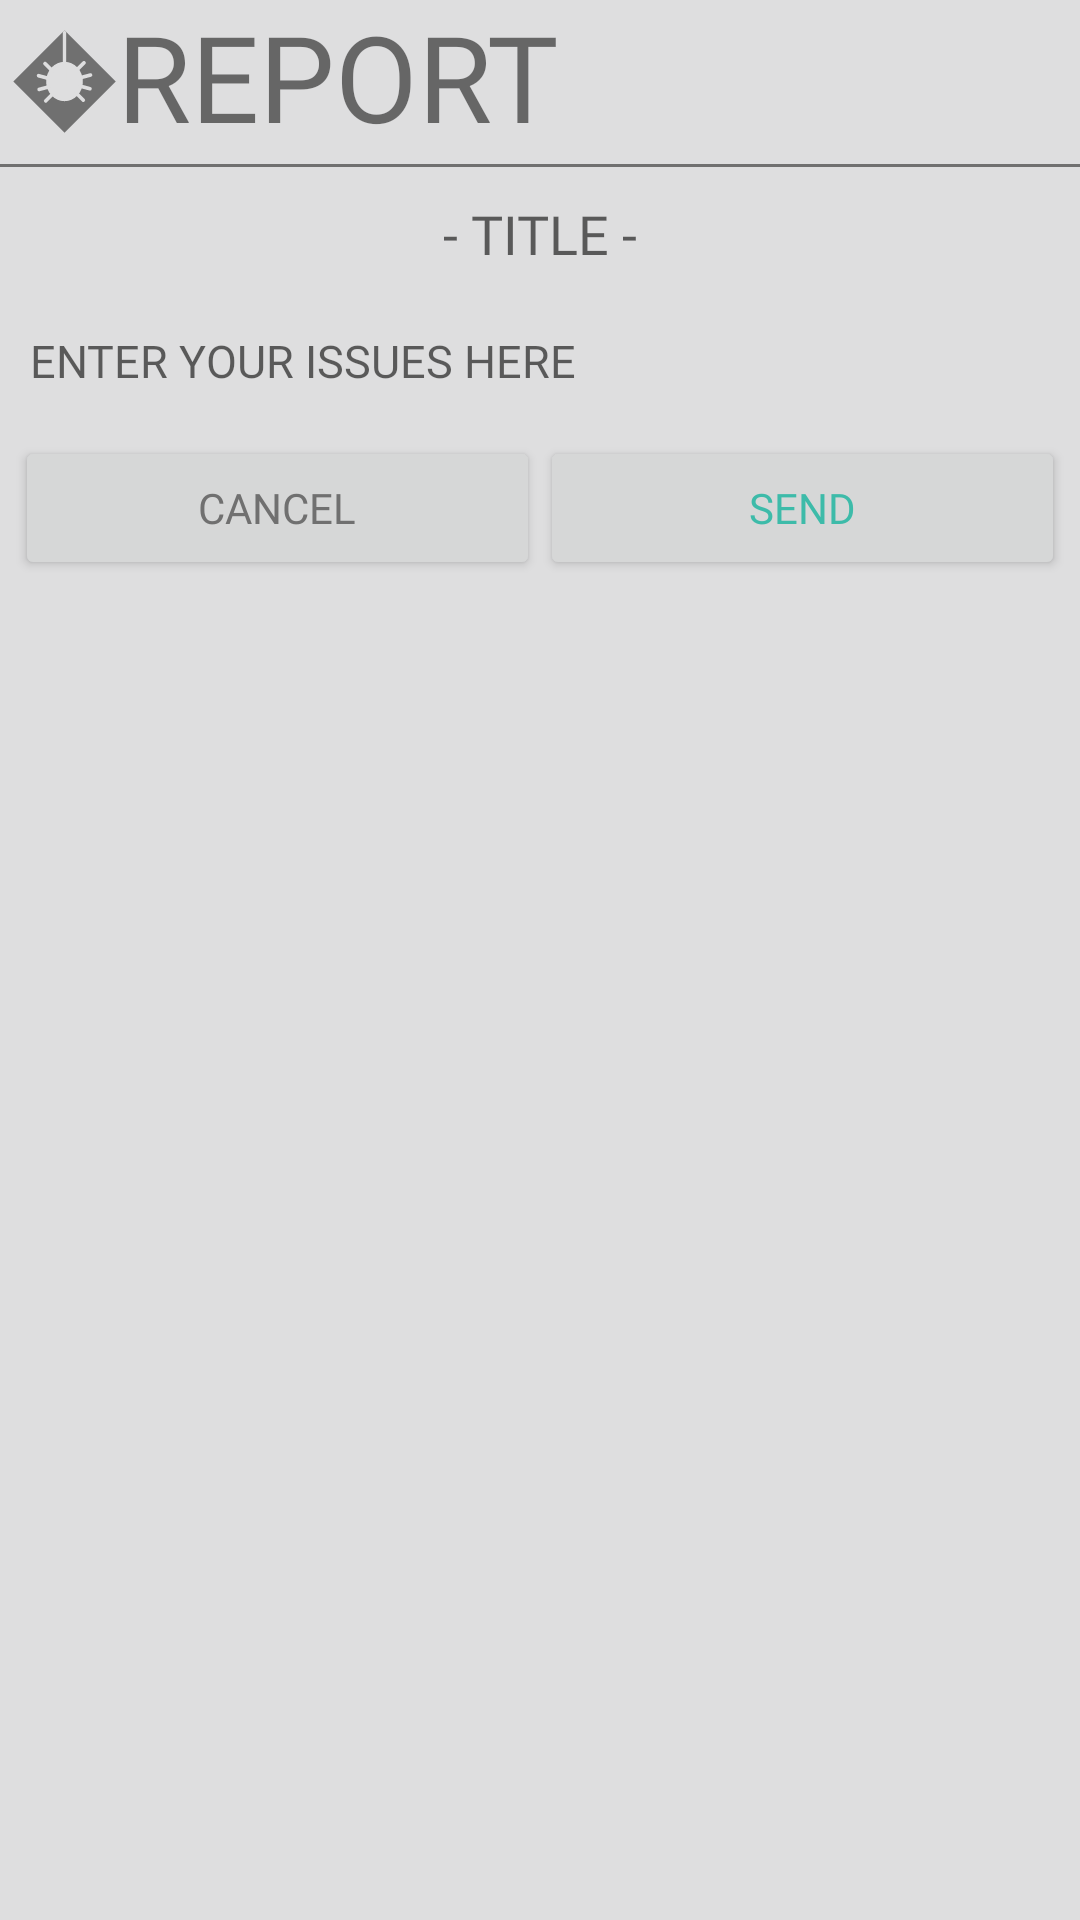

Icon bounding boxes for this 1080x1920 phone screenshot, format BBox(x1, y1, x2, y2):
bug: BBox(13, 30, 116, 133)
